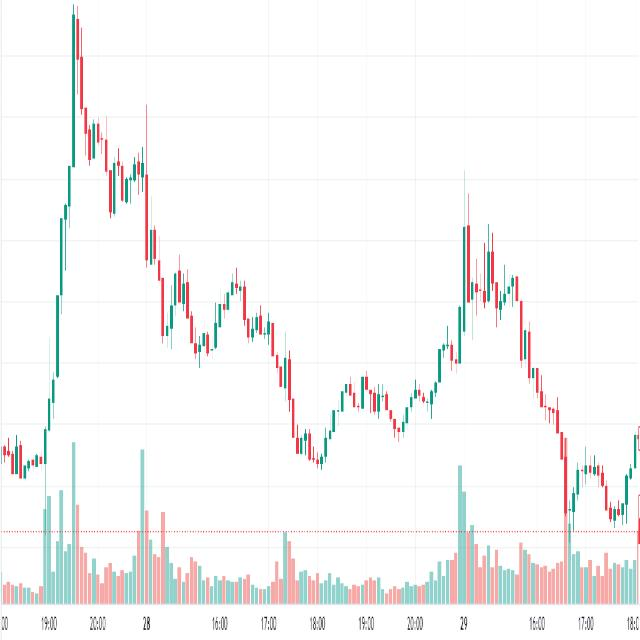Double-Bottom: (151, 231, 237, 380)
